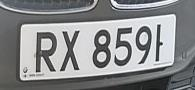1: (152, 20, 169, 66)
5: (113, 23, 134, 72)
8: (91, 24, 114, 74)
9: (133, 22, 154, 67)
R: (32, 28, 60, 77)
X: (58, 27, 84, 75)
